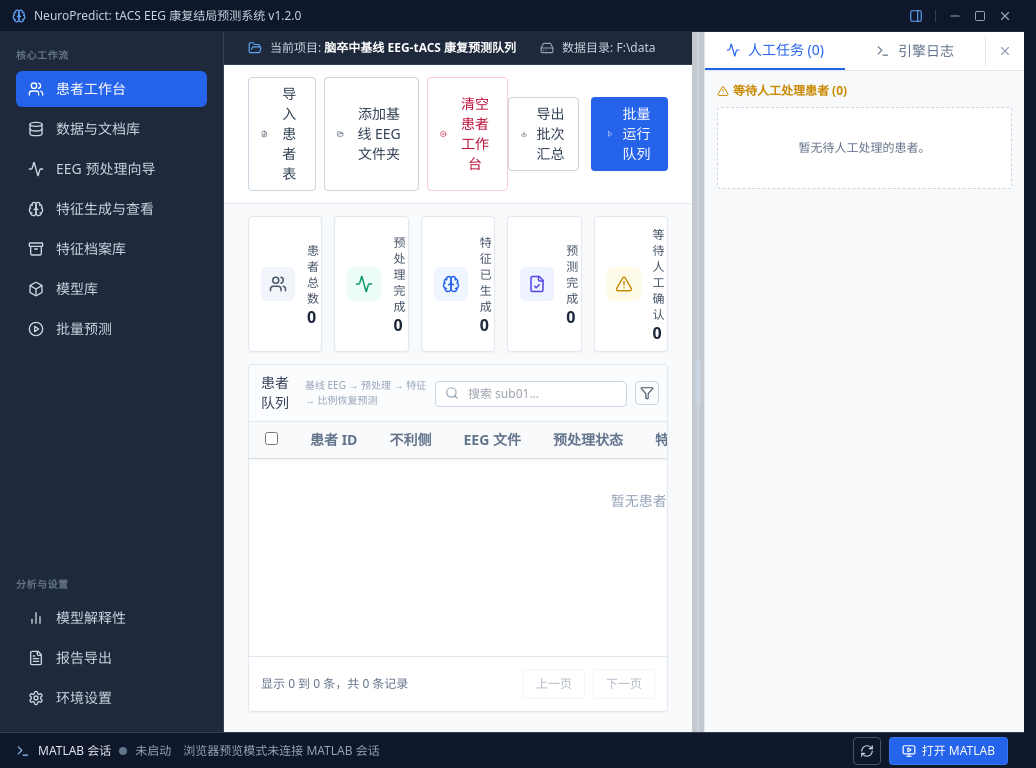
Model library view › renders backend prediction models instead of static prototype models
Click the button "模型库".
click(112, 289)  # box 16,271 -> 207,307
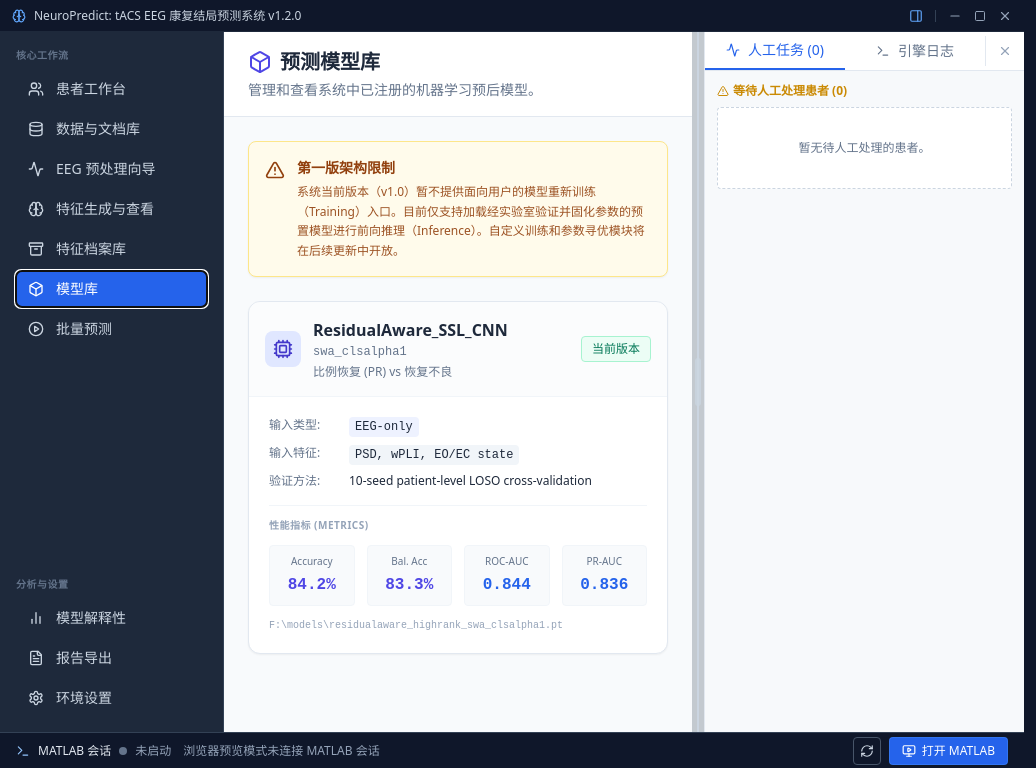
Now the heading "ResidualAware_SSL_CNN" is shown, box 313,318 -> 508,342
Now the text "swa_clsalpha1" is shown, box 313,345 -> 407,359
Now the text "EEG-only" is shown, box 349,417 -> 419,437
